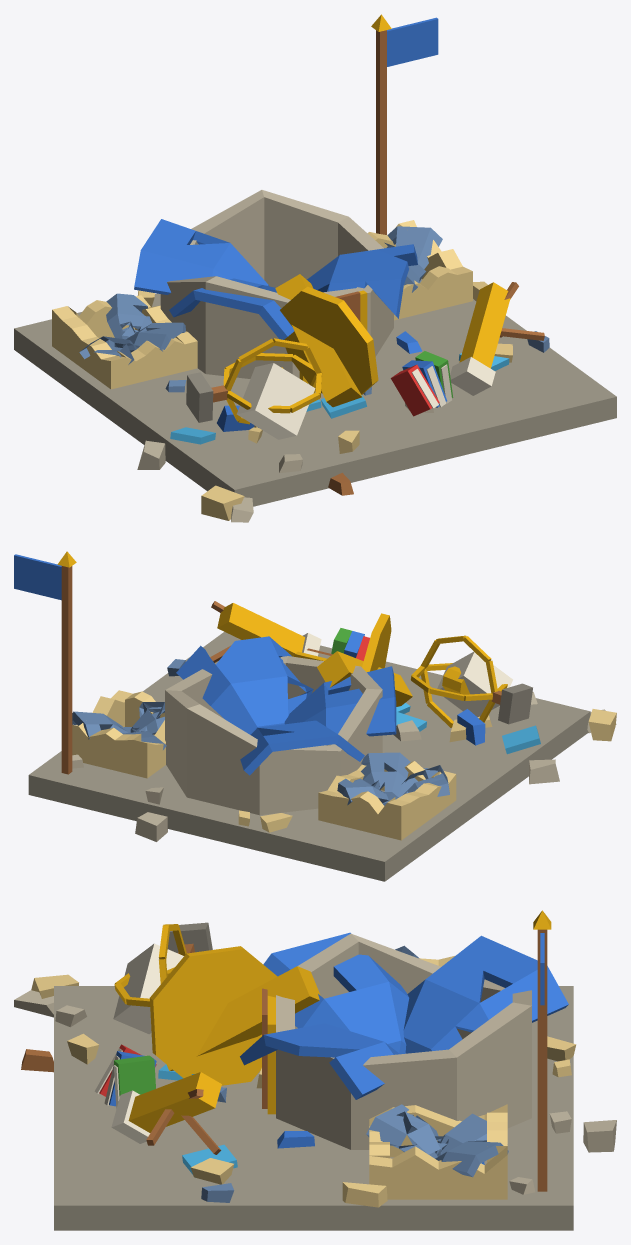
File: observatory_t3_v1_dmg2.glb
3 renders of one model, top to bottom at view 1: azimuth 30°, elevation 25°; view 2: azimuth 150°, elevation 25°; view 3: azimuth 270°, elevation 25°, orthographic. The views are drawn at different scales.
Parts seen in each view (by area): view 1: observatory_t3_v1_dmg2; view 2: observatory_t3_v1_dmg2; view 3: observatory_t3_v1_dmg2.
Part boxes in pixels (box(x1,y1,x2,y2)): observatory_t3_v1_dmg2: box(14, 14, 616, 522); observatory_t3_v1_dmg2: box(14, 551, 616, 881); observatory_t3_v1_dmg2: box(14, 910, 616, 1230).
Size of the model in its own units: 0.8685 by 0.485 by 0.8706.
Materials: 1 (1 with a texture image).
